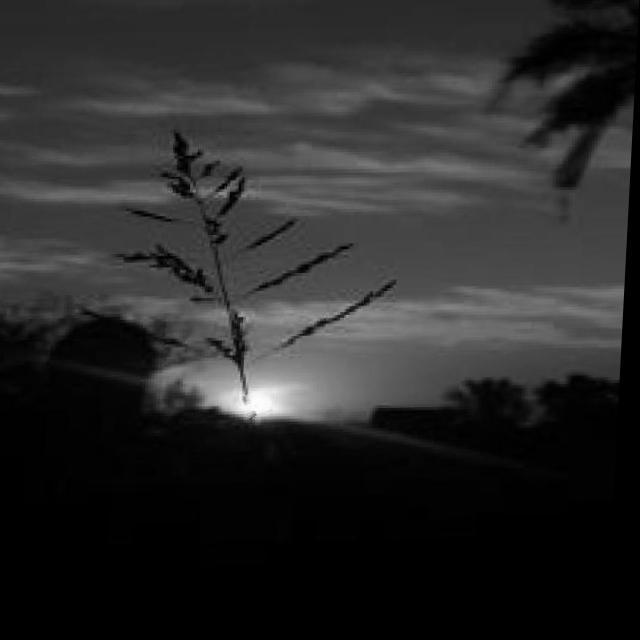sun: (251, 395, 276, 417)
